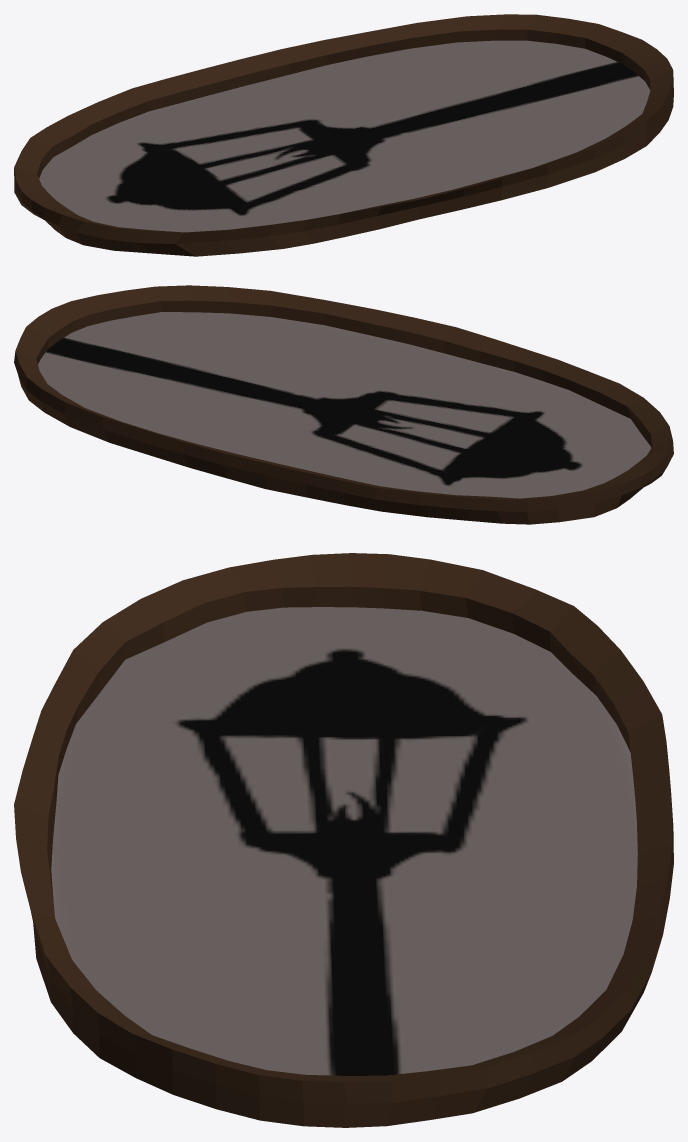
File: OvalFrame3_2.fbx
The picture shows the model from 3 angles, top to bottom: view 1: azimuth 30°, elevation 25°; view 2: azimuth 150°, elevation 25°; view 3: azimuth 270°, elevation 25°; orthographic projection. The views are drawn at different scales.
Parts seen in each view (by area): view 1: OvalFrame3.001; view 2: OvalFrame3.001; view 3: OvalFrame3.001.
Part boxes in pixels (x1,y1,x2,y2): OvalFrame3.001: [14, 14, 673, 256]; OvalFrame3.001: [14, 285, 673, 524]; OvalFrame3.001: [14, 553, 673, 1127].
Bounding box in the file's own units: 437 × 17.09 × 230.
